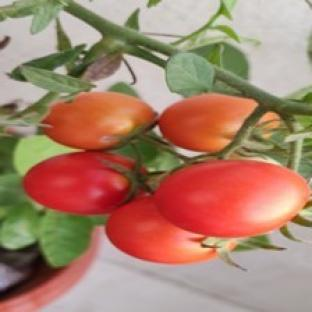Tomato: (155, 161, 309, 238), (106, 197, 217, 264), (24, 152, 133, 214), (42, 92, 155, 150), (159, 94, 257, 151)
